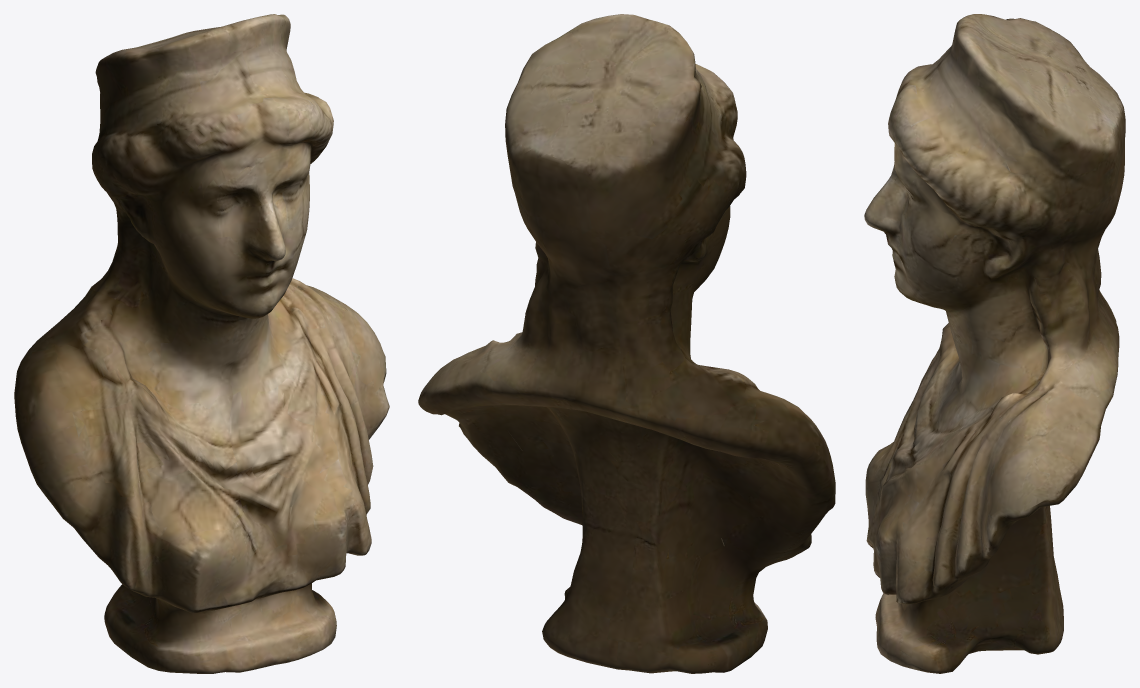
3 renders of one model, left to right at view 1: azimuth 30°, elevation 25°; view 2: azimuth 150°, elevation 25°; view 3: azimuth 270°, elevation 25°, orthographic.
Visible parts, largest first — view 1: Object_4; view 2: Object_4; view 3: Object_4.
Part boxes in pixels (x1,y1,x2,y2): Object_4: [14, 14, 389, 673]; Object_4: [418, 14, 835, 673]; Object_4: [864, 14, 1125, 673].
Size of the model in its own units: 1.29 by 2 by 0.7774.
1 material, 1 textured.
